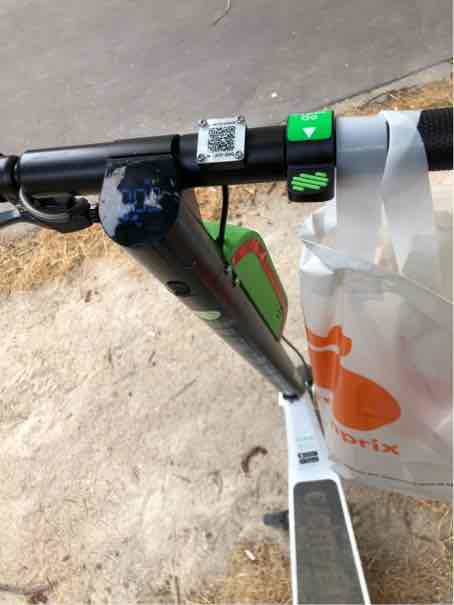scooter: (22, 114, 405, 605)
